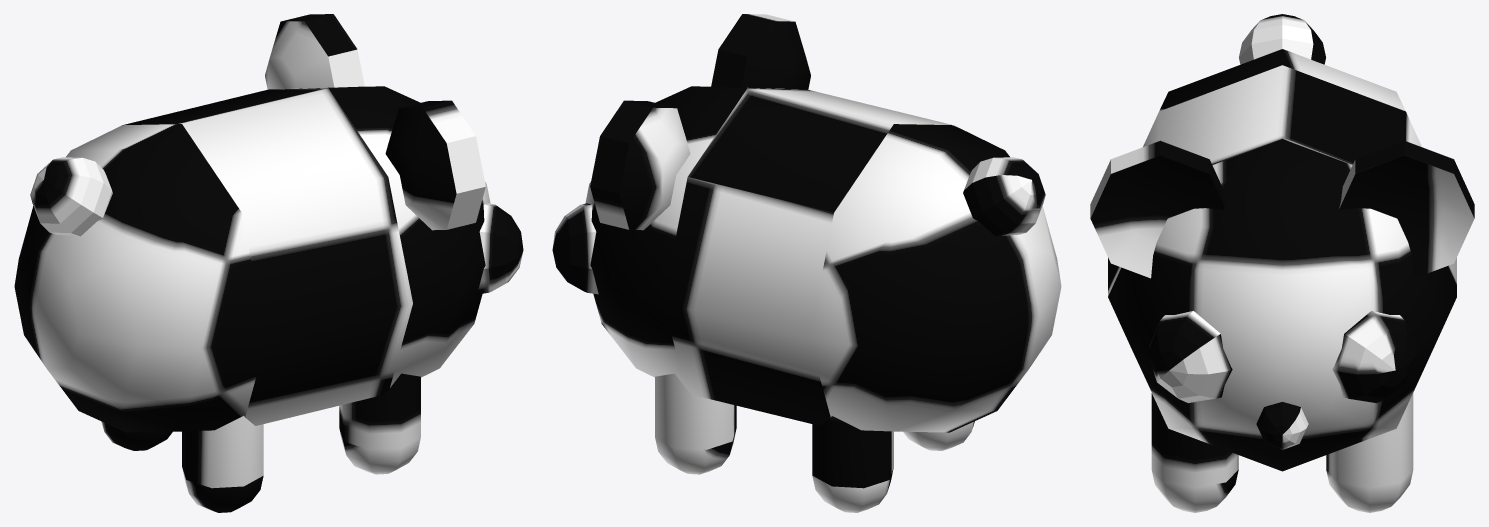
Rendered from hamster.obj.
3 views of the same model, side by side, from view 1: azimuth 30°, elevation 25°; view 2: azimuth 150°, elevation 25°; view 3: azimuth 270°, elevation 25° (orthographic). The views are drawn at different scales.
Visible parts, largest first — view 1: pCylinder1; view 2: pCylinder1; view 3: pCylinder1.
Boxes of the visible parts, x1,y1,x2,y2 form: pCylinder1: (14,14,523,512); pCylinder1: (552,14,1061,512); pCylinder1: (1090,14,1474,512).
Bounding box in the file's own units: 1.24 × 0.9637 × 0.88.
1 material, 1 textured.
